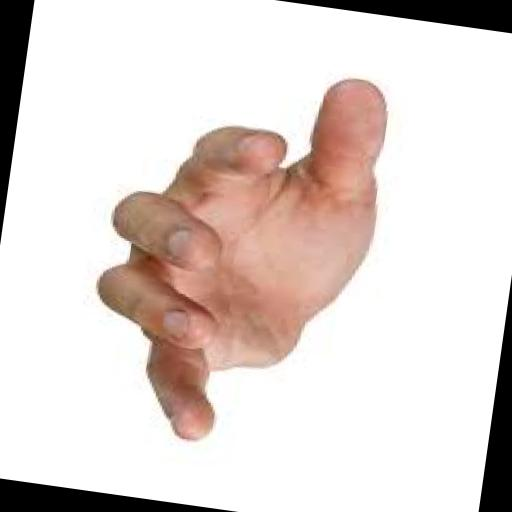Open_Palm: (58, 42, 476, 485)
